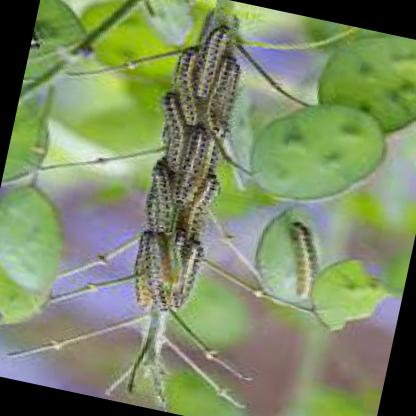pieris: (284, 217, 327, 297), (195, 27, 237, 96), (159, 89, 192, 171), (158, 231, 186, 294)
